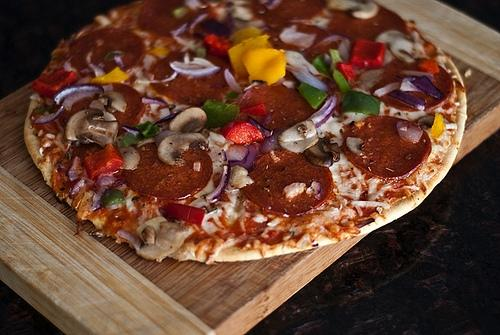mushroom: (66, 109, 120, 148), (158, 133, 210, 166), (277, 120, 320, 154), (376, 30, 416, 66), (136, 226, 175, 261), (169, 106, 208, 133), (327, 0, 378, 20)
onion: (285, 50, 327, 92), (90, 176, 128, 212), (54, 84, 105, 105), (170, 58, 222, 78), (306, 94, 336, 128), (169, 22, 198, 52), (385, 90, 426, 110), (408, 75, 442, 99), (279, 26, 316, 48), (206, 166, 228, 203), (229, 144, 258, 170), (62, 92, 96, 110), (32, 106, 64, 124), (199, 20, 230, 38), (248, 115, 272, 137), (260, 130, 282, 152), (66, 156, 83, 182), (188, 13, 208, 35), (372, 82, 400, 97), (225, 68, 242, 92), (68, 178, 84, 198), (150, 103, 161, 116)
